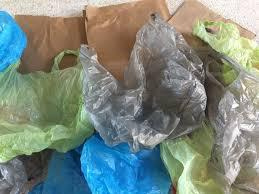Plastic: (69, 17, 204, 151), (0, 51, 117, 156)
